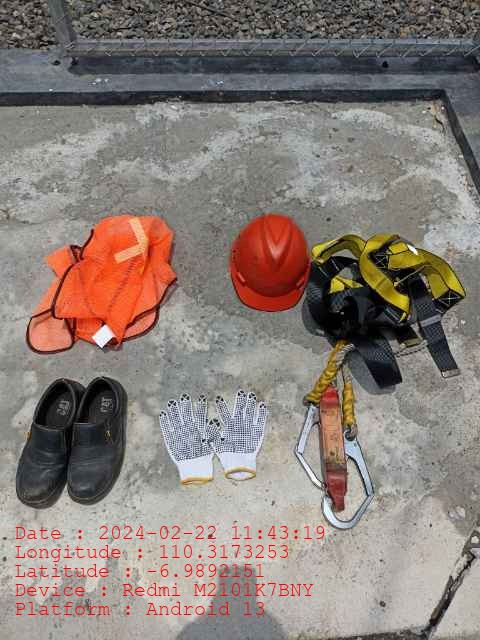HELM: (226, 214, 307, 310)
SARUNG TANGAN: (158, 393, 266, 482)
SEPATU: (16, 377, 126, 511)
